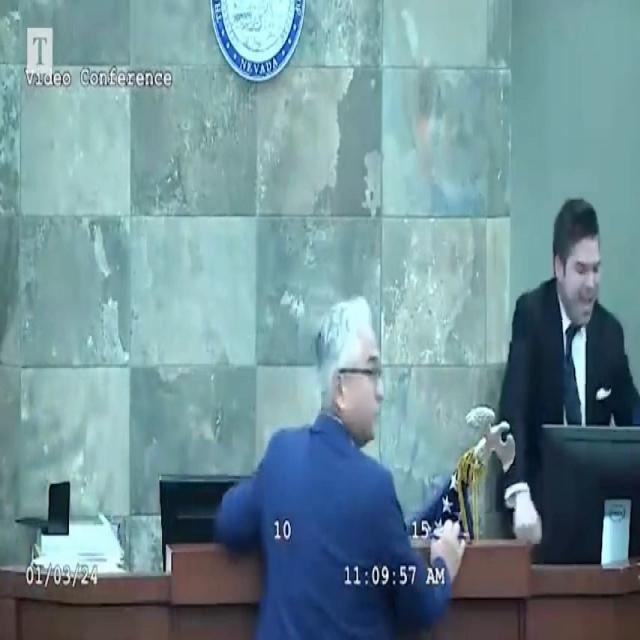fight: (494, 198, 640, 566)
non-fight: (200, 277, 470, 640)
